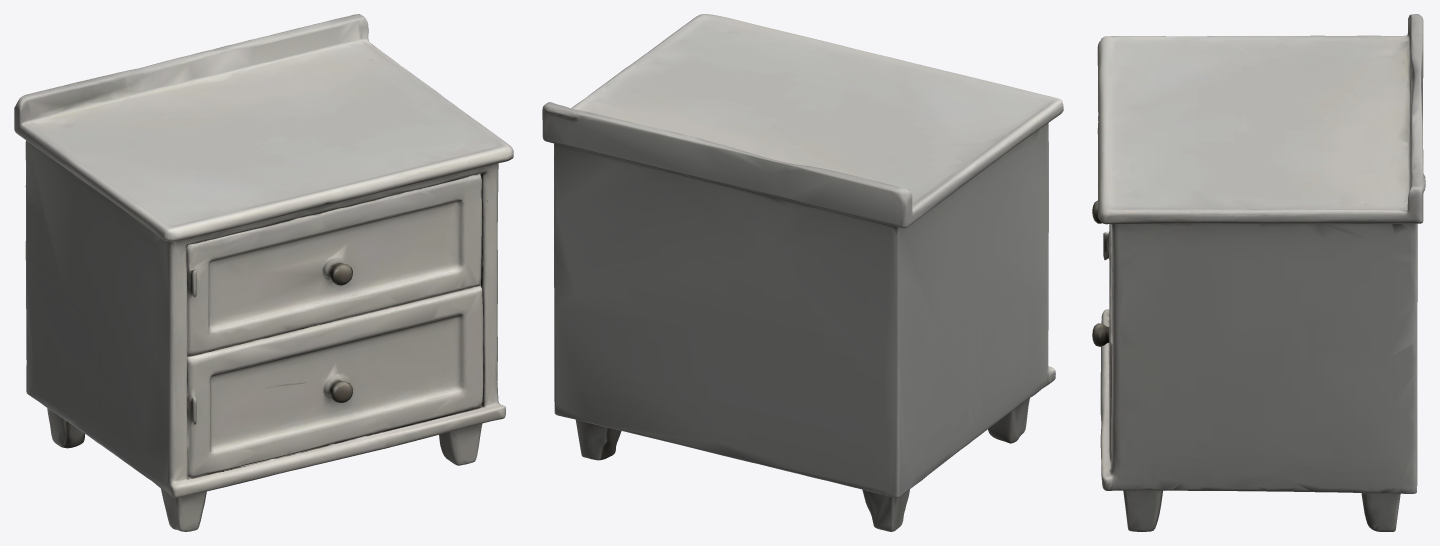
Rendered from bedside.glb.
3 renders of one model, left to right at view 1: azimuth 30°, elevation 25°; view 2: azimuth 150°, elevation 25°; view 3: azimuth 270°, elevation 25°, orthographic. The views are drawn at different scales.
Visible parts, largest first — view 1: tripo_node_fc22e1cf; view 2: tripo_node_fc22e1cf; view 3: tripo_node_fc22e1cf.
Part boxes in pixels (<box>): tripo_node_fc22e1cf: <box>14,14,513,531</box>; tripo_node_fc22e1cf: <box>542,14,1063,531</box>; tripo_node_fc22e1cf: <box>1092,14,1425,531</box>.
Bounding box in the file's own units: 97.82 × 91.32 × 77.31.
Materials: 1 (1 with a texture image).
